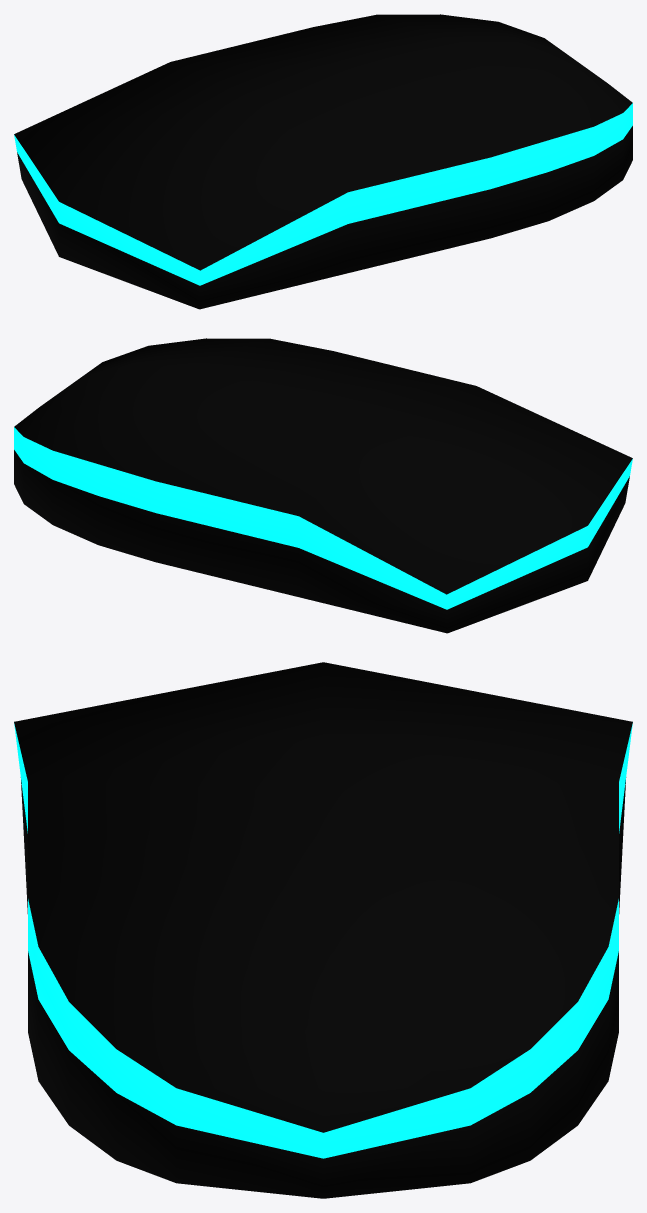
Rendered from mouse.fbx.
3 views of the same model, one above another, from view 1: azimuth 30°, elevation 25°; view 2: azimuth 150°, elevation 25°; view 3: azimuth 270°, elevation 25° (orthographic). The views are drawn at different scales.
Visible parts, largest first — view 1: mouse; view 2: mouse; view 3: mouse.
Part boxes in pixels (x1,y1,x2,y2): mouse: (14,14,632,309); mouse: (14,338,632,633); mouse: (14,662,632,1198).
Bounding box in the file's own units: 14.25 × 2.96 × 8.38.
